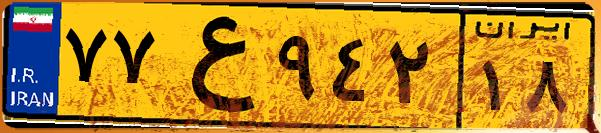1: (475, 38, 525, 113)
2: (385, 28, 445, 110)
4: (330, 28, 385, 110)
7: (57, 26, 110, 100), (110, 28, 158, 98)
8: (525, 38, 570, 115)
9: (270, 28, 330, 110)
ع: (158, 12, 270, 120)
